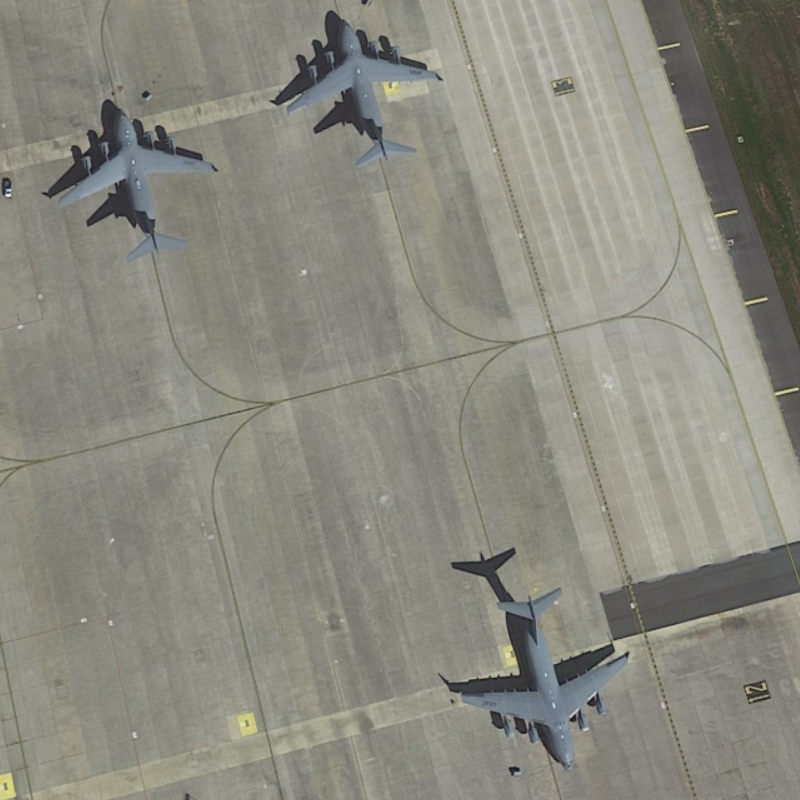A3: (446, 582, 634, 775), (54, 96, 226, 269), (273, 12, 449, 173)
